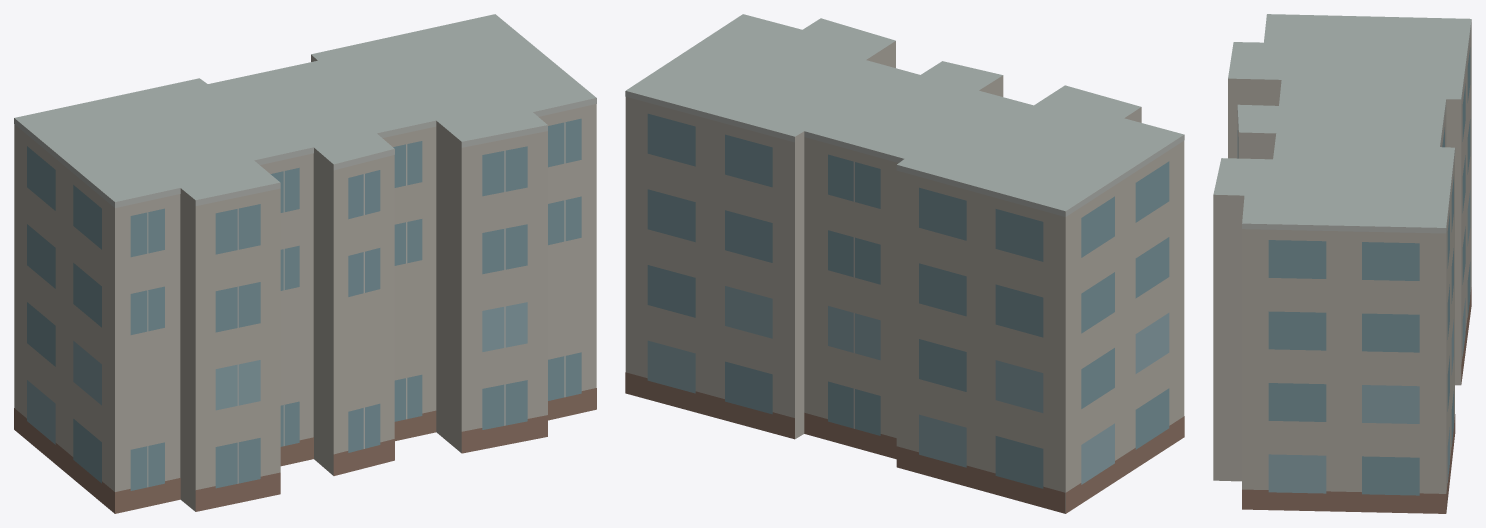
The model's file is survey-upis-32709255.glb.
3 views of the same model, side by side, from view 1: azimuth 30°, elevation 25°; view 2: azimuth 150°, elevation 25°; view 3: azimuth 270°, elevation 25° (orthographic). The views are drawn at different scales.
Visible parts, largest first — view 1: survey-upis-32709255.tmp; view 2: survey-upis-32709255.tmp; view 3: survey-upis-32709255.tmp.
Part boxes in pixels (x1,y1,x2,y2): survey-upis-32709255.tmp: [14, 14, 596, 513]; survey-upis-32709255.tmp: [625, 14, 1184, 513]; survey-upis-32709255.tmp: [1213, 14, 1471, 513].
Size of the model in its own units: 20.39 by 12.7 by 10.41.
